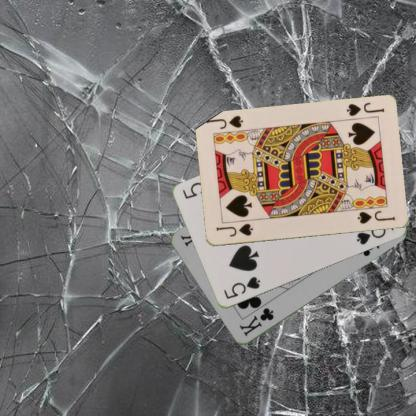5s: (221, 274, 262, 300)
Js: (344, 100, 386, 118), (213, 221, 254, 238)
Kc: (236, 305, 276, 338)
